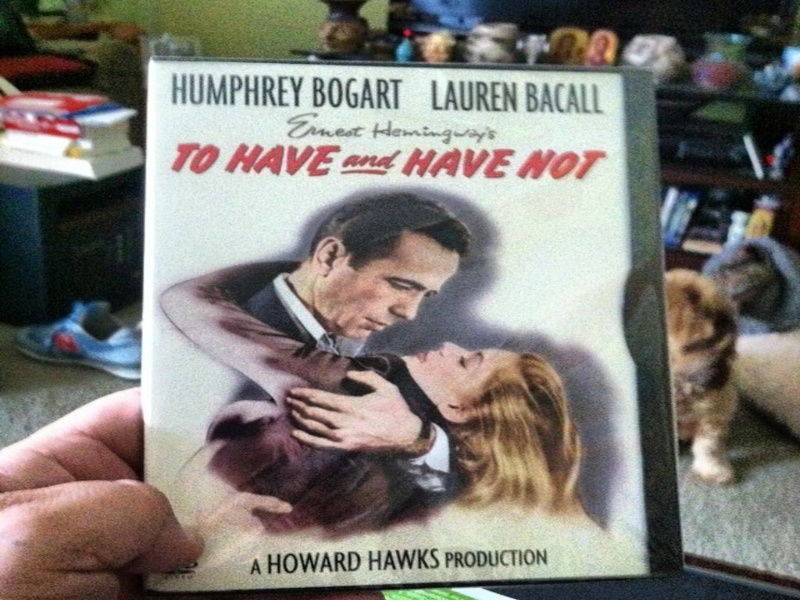book: (118, 50, 706, 599)
